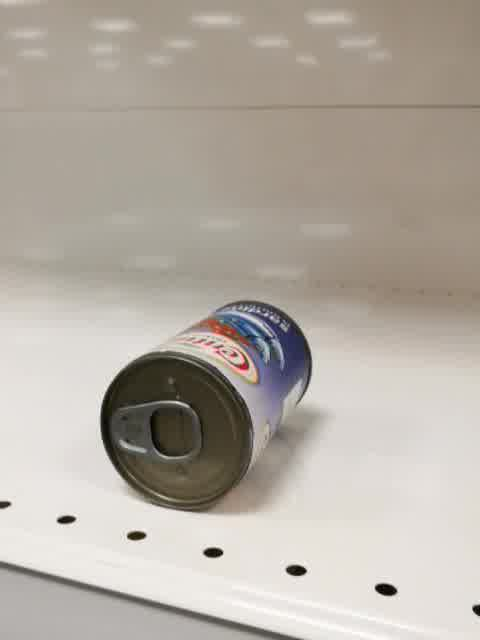sardine: (99, 300, 312, 511)
